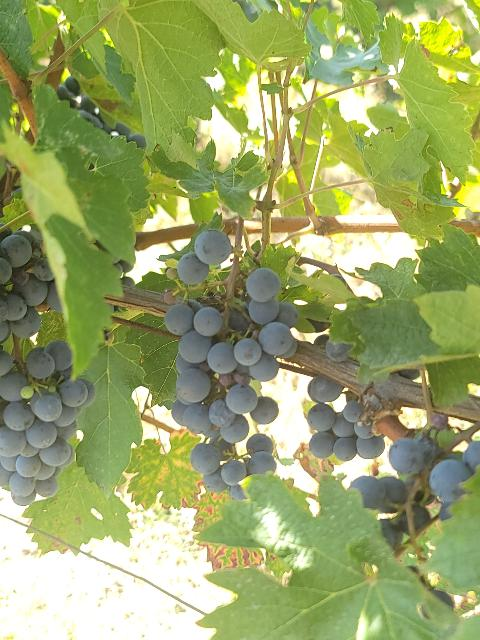grapes: (165, 268, 294, 499), (0, 340, 96, 506), (250, 434, 276, 472)
